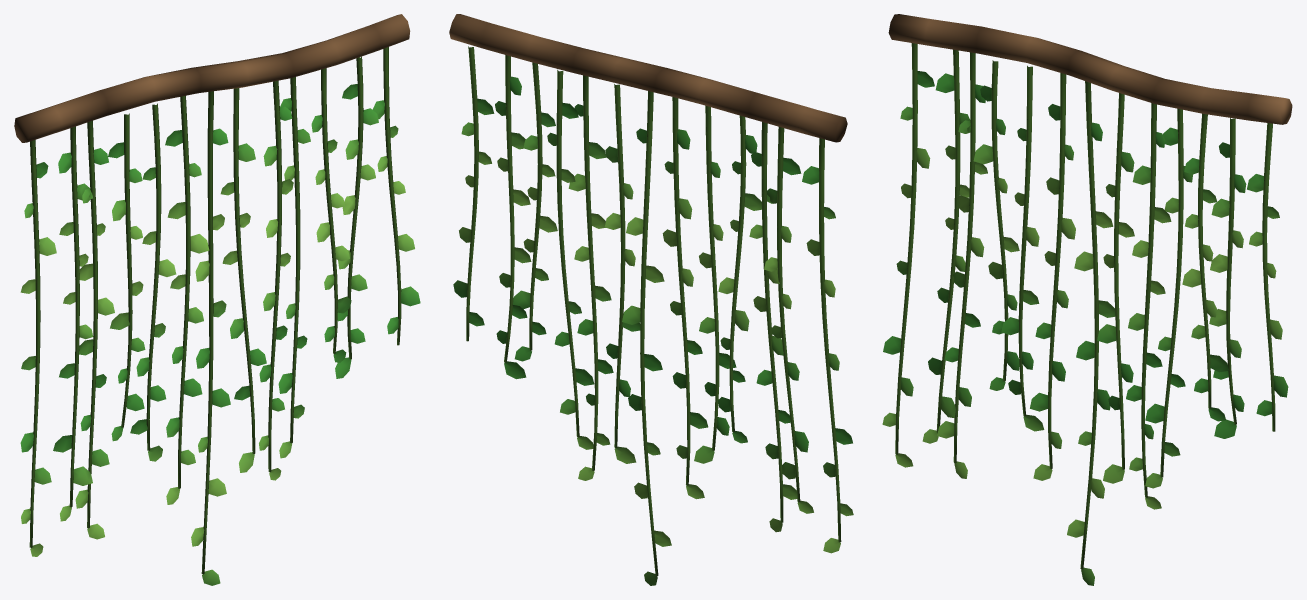
Rendered from vine_curtain.glb.
3 renders of one model, left to right at view 1: azimuth 30°, elevation 25°; view 2: azimuth 150°, elevation 25°; view 3: azimuth 330°, elevation 25°, orthographic.
Parts seen in each view (by area): view 1: vine_curtain; view 2: vine_curtain; view 3: vine_curtain.
Part boxes in pixels (box(x1,y1,x2,y2)): vine_curtain: box(14, 14, 420, 585); vine_curtain: box(449, 14, 853, 585); vine_curtain: box(882, 14, 1292, 585).
Bounding box in the file's own units: 3.33 × 4.19 × 0.3017.
